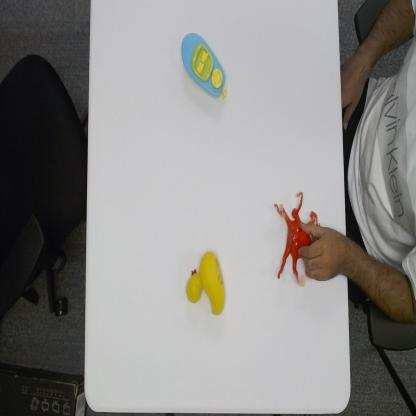Boat: (180, 31, 228, 101)
Duck: (185, 250, 226, 317)
Hand: (298, 220, 348, 284)
Octopus: (273, 190, 321, 288)
